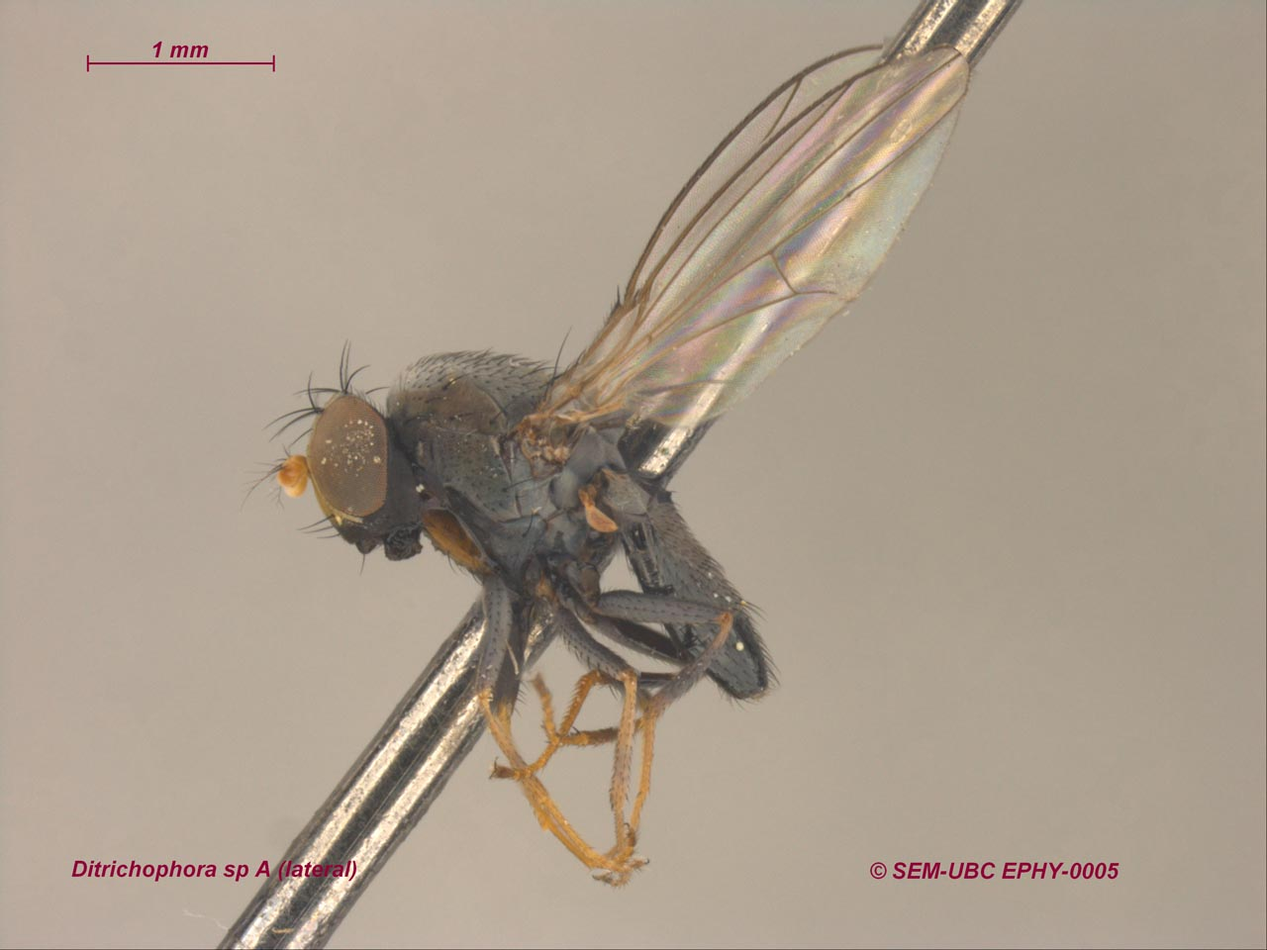Ephydridae: (258, 41, 964, 879)
